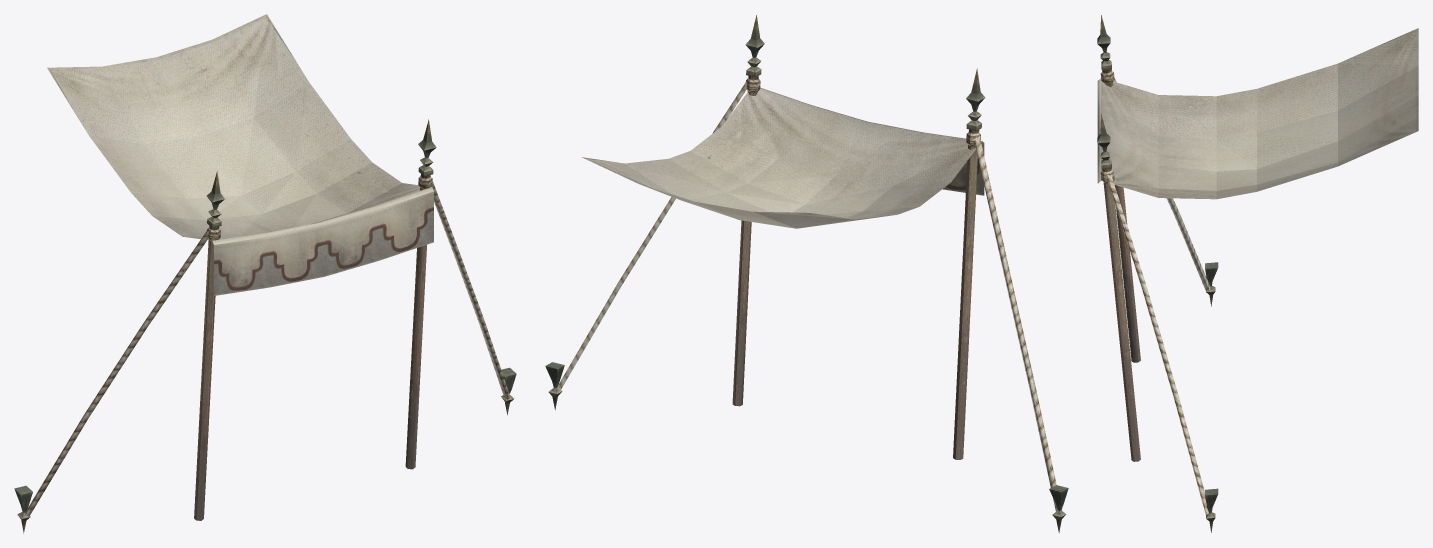
The model's file is bg_atm_leonhart_housetent01_sm_jjy.FBX.
3 views of the same model, side by side, from view 1: azimuth 30°, elevation 25°; view 2: azimuth 150°, elevation 25°; view 3: azimuth 270°, elevation 25° (orthographic). The views are drawn at different scales.
Visible parts, largest first — view 1: bg_atm_leonhart_housetent01_sm_jjy; view 2: bg_atm_leonhart_housetent01_sm_jjy; view 3: bg_atm_leonhart_housetent01_sm_jjy.
Boxes of the visible parts, <box> form: bg_atm_leonhart_housetent01_sm_jjy: <box>14,14,516,533</box>; bg_atm_leonhart_housetent01_sm_jjy: <box>545,15,1068,533</box>; bg_atm_leonhart_housetent01_sm_jjy: <box>1097,15,1418,532</box>.
Bounding box in the file's own units: 435 × 313 × 255.
